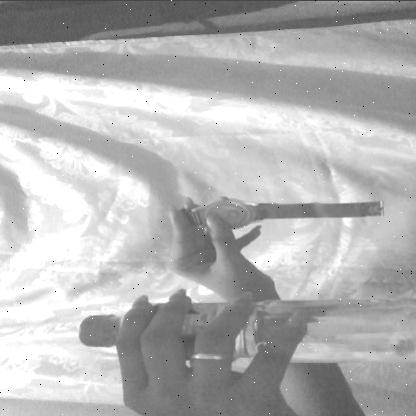Plastic Bottle: (35, 286, 416, 380)
